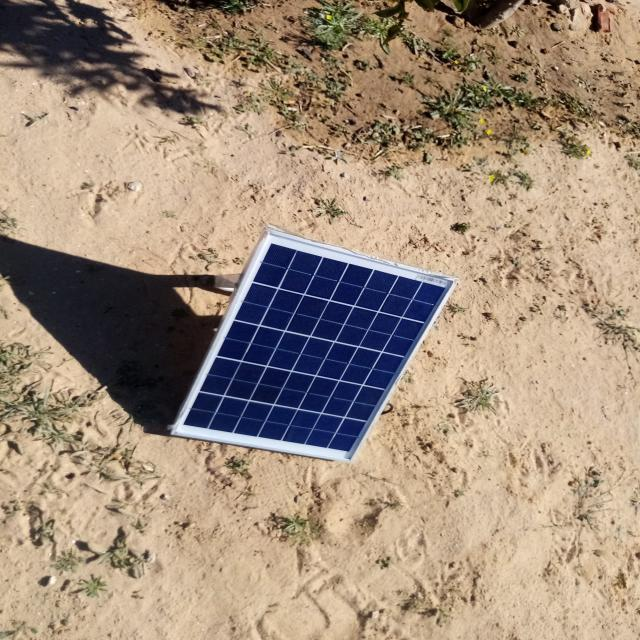no faulty: (172, 232, 457, 462)
